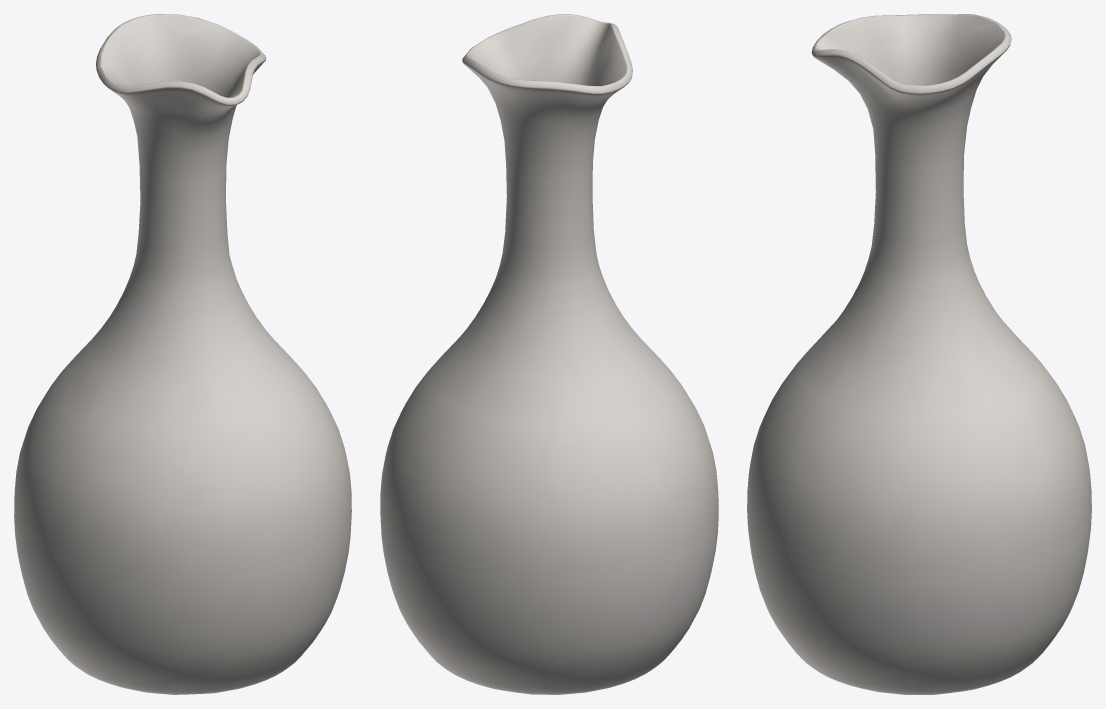
The model's file is vase_a.glb.
3 views of the same model, side by side, from view 1: azimuth 30°, elevation 25°; view 2: azimuth 150°, elevation 25°; view 3: azimuth 270°, elevation 25° (orthographic). The views are drawn at different scales.
Parts seen in each view (by area): view 1: ceramic_vase_01; view 2: ceramic_vase_01; view 3: ceramic_vase_01.
Part boxes in pixels (x1,y1,x2,y2): ceramic_vase_01: (14, 14, 351, 694); ceramic_vase_01: (380, 14, 718, 694); ceramic_vase_01: (747, 14, 1091, 694).
Bounding box in the file's own units: 0.2036 × 0.4003 × 0.2036.
1 material, 1 textured.
